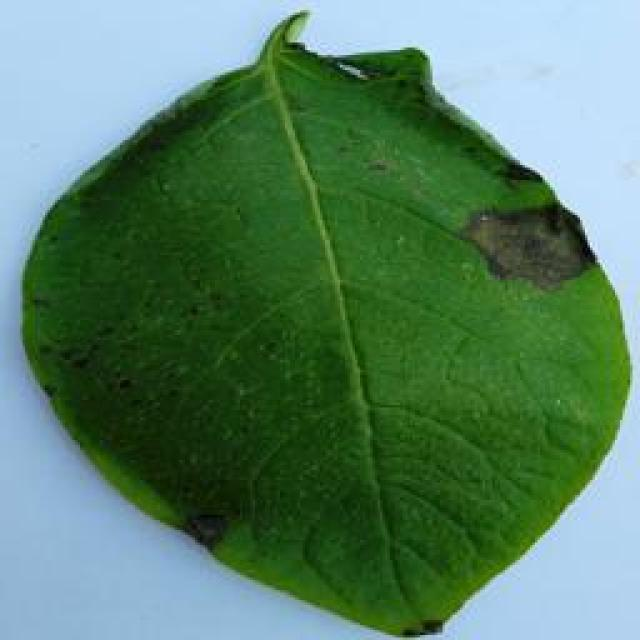Potato_Late_Blight: (23, 11, 619, 636)
